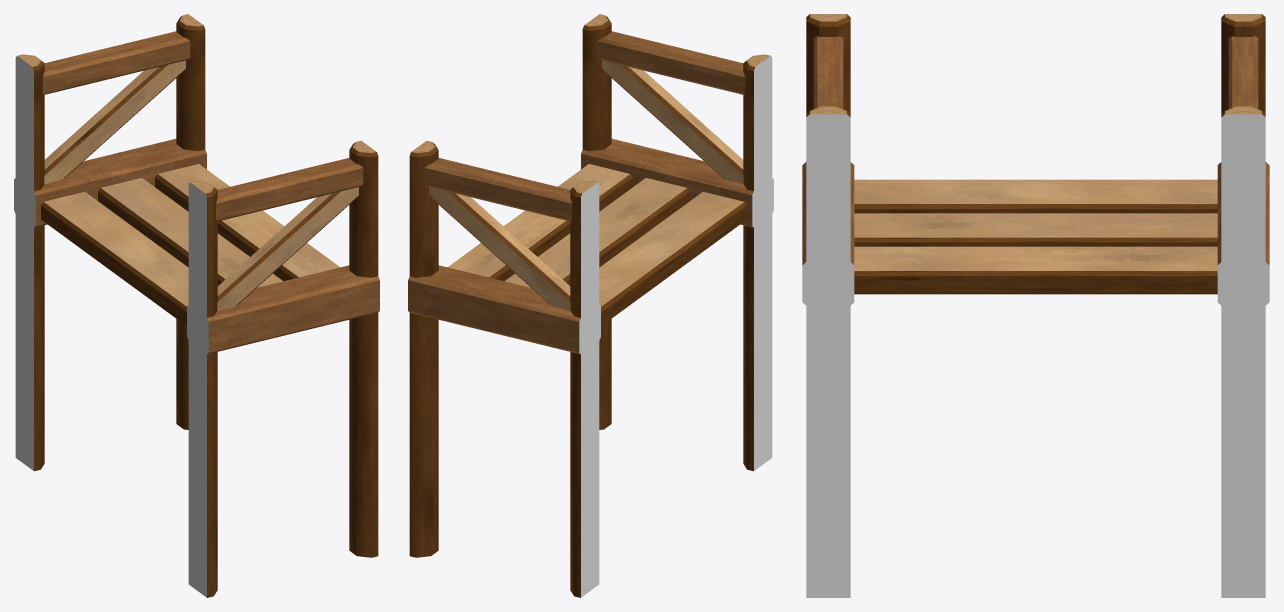
The model's file is Prop_Bridge_Center_1x2.glb.
3 renders of one model, left to right at view 1: azimuth 30°, elevation 25°; view 2: azimuth 150°, elevation 25°; view 3: azimuth 270°, elevation 25°, orthographic. The views are drawn at different scales.
Parts seen in each view (by area): view 1: Prop_Bridge_Center_1x2; view 2: Prop_Bridge_Center_1x2; view 3: Prop_Bridge_Center_1x2.
Boxes of the visible parts, bbox=[...] form: Prop_Bridge_Center_1x2: bbox=[14, 14, 379, 597]; Prop_Bridge_Center_1x2: bbox=[408, 14, 773, 597]; Prop_Bridge_Center_1x2: bbox=[802, 14, 1269, 597].
Size of the model in its own units: 1 by 2.25 by 1.97.
5 materials, 4 textured.
